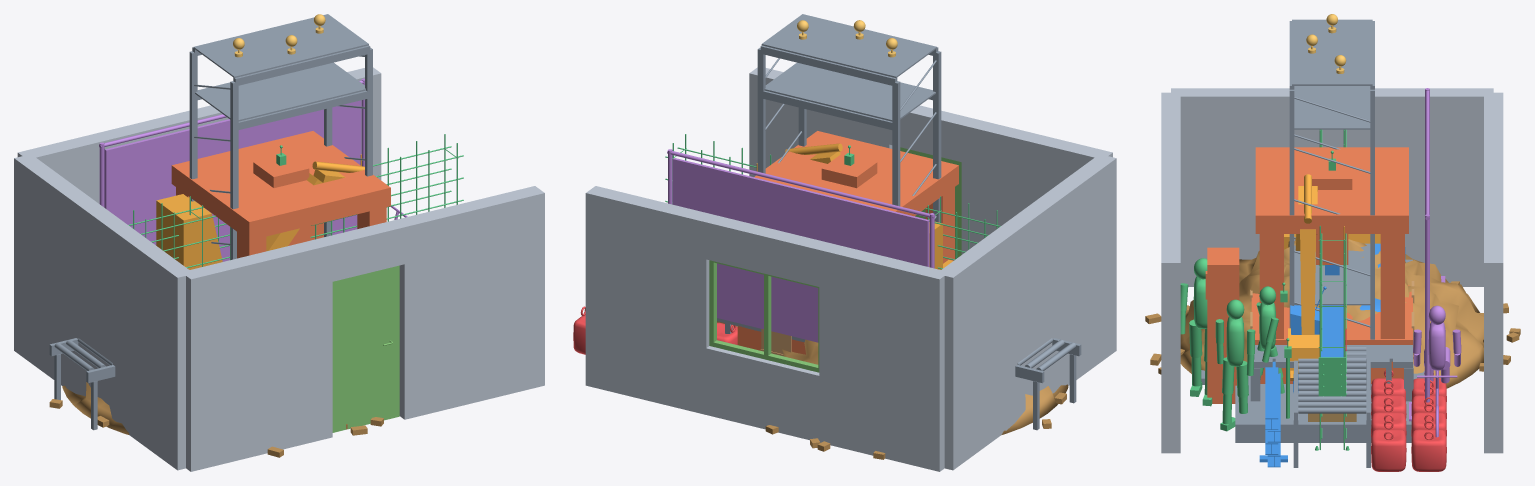
File: stations.glb
3 views of the same model, side by side, from view 1: azimuth 30°, elevation 25°; view 2: azimuth 150°, elevation 25°; view 3: azimuth 270°, elevation 25° (orthographic).
Parts seen in each view (by area): view 1: uc5|0|0, bonus|0|0, uc4|0|0, talks|1|0, uc5|1|0, uc2|0|0, uc9|0|0, uc4|1|0, uc6|0|0; view 2: uc5|0|0, talks|1|0, bonus|0|0, uc4|0|0, uc5|1|1, uc4|1|0, uc6|0|0, uc2|0|0, uc9|0|0, uc5|1|0; view 3: uc5|0|0, uc4|0|0, bonus|0|0, uc6|0|0, uc4|1|1, talks|0|0, uc2|0|0, uc7|1|1, uc7|1|2, uc7|2|0, uc8|2|0, talks|1|0 (+15 smaller).
Boxes of the visible parts, x1=… form: uc5|0|0: x1=14, y1=67, x2=544, y2=471; bonus|0|0: x1=189, y1=14, x2=372, y2=259; uc4|0|0: x1=171, y1=131, x2=390, y2=258; talks|1|0: x1=99, y1=78, x2=364, y2=261; uc5|1|0: x1=332, y1=265, x2=399, y2=432; uc2|0|0: x1=156, y1=161, x2=364, y2=269; uc9|0|0: x1=128, y1=134, x2=463, y2=268; uc4|1|0: x1=49, y1=338, x2=115, y2=430; uc6|0|0: x1=49, y1=382, x2=383, y2=457; uc5|0|0: x1=585, y1=67, x2=1116, y2=471; talks|1|0: x1=667, y1=149, x2=935, y2=342; bonus|0|0: x1=757, y1=14, x2=941, y2=222; uc4|0|0: x1=737, y1=131, x2=958, y2=354; uc5|1|1: x1=709, y1=260, x2=819, y2=372; uc4|1|0: x1=1015, y1=338, x2=1081, y2=430; uc6|0|0: x1=765, y1=339, x2=1068, y2=459; uc2|0|0: x1=785, y1=143, x2=952, y2=269; uc9|0|0: x1=665, y1=134, x2=1000, y2=269; uc5|1|0: x1=900, y1=147, x2=961, y2=259; uc5|0|0: x1=1161, y1=88, x2=1503, y2=453; uc4|0|0: x1=1205, y1=147, x2=1412, y2=403; bonus|0|0: x1=1289, y1=19, x2=1374, y2=339; uc6|0|0: x1=1145, y1=239, x2=1520, y2=388; uc4|1|1: x1=1293, y1=346, x2=1370, y2=467; talks|0|0: x1=1201, y1=370, x2=1424, y2=442; uc2|0|0: x1=1284, y1=174, x2=1380, y2=380; uc7|1|1: x1=1215, y1=299, x2=1255, y2=431; uc7|1|2: x1=1180, y1=258, x2=1212, y2=406; uc7|2|0: x1=1413, y1=305, x2=1461, y2=437; uc8|2|0: x1=1250, y1=259, x2=1413, y2=401; talks|1|0: x1=1409, y1=88, x2=1445, y2=421.
Bounding box in the file's own units: 6.18 × 4.56 × 4.65.
